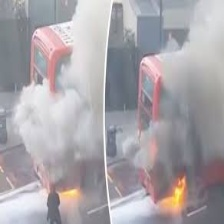smoke: (165, 41, 222, 173), (12, 90, 94, 176)
